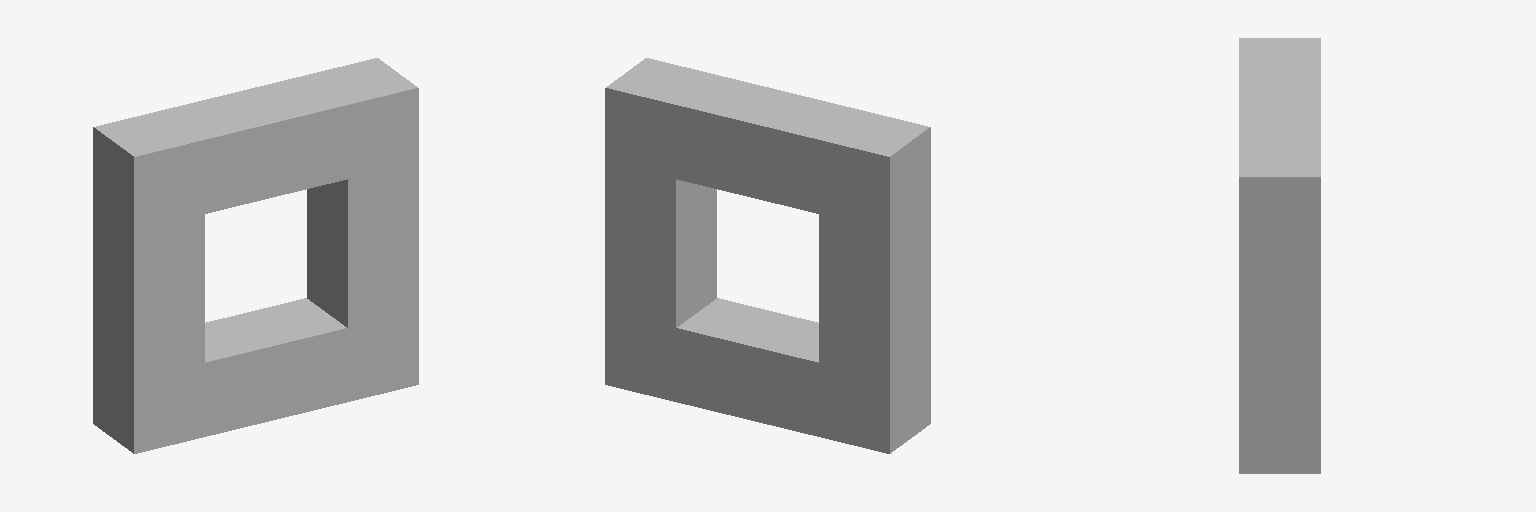
The model's file is Primitive_Window.obj.
The picture shows the model from 3 angles: view 1: azimuth 30°, elevation 25°; view 2: azimuth 150°, elevation 25°; view 3: azimuth 270°, elevation 25°; orthographic projection.
Visible parts, largest first — view 1: Primitive_Window_Cube.16420; view 2: Primitive_Window_Cube.16420; view 3: Primitive_Window_Cube.16420.
Part boxes in pixels (x1,y1,x2,y2): Primitive_Window_Cube.16420: (93,58,418,453); Primitive_Window_Cube.16420: (605,58,930,453); Primitive_Window_Cube.16420: (1239,38,1320,473).
Bounding box in the file's own units: 4 × 4 × 1.